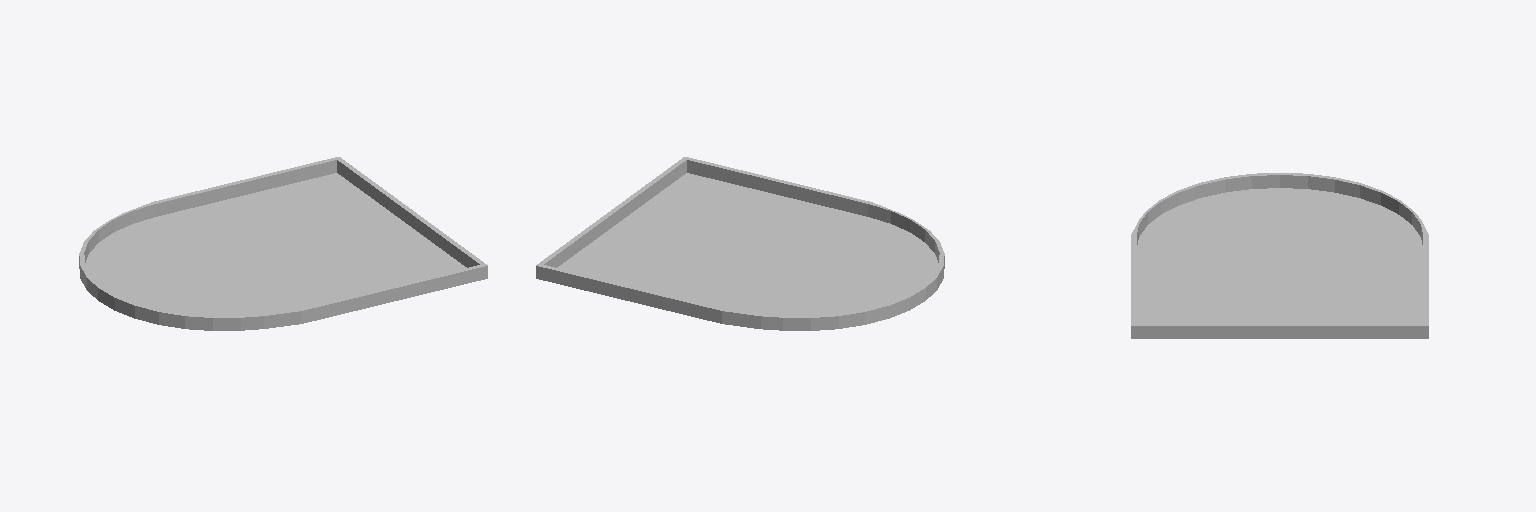
File: HandTable.obj
3 renders of one model, left to right at view 1: azimuth 30°, elevation 25°; view 2: azimuth 150°, elevation 25°; view 3: azimuth 270°, elevation 25°, orthographic.
Parts seen in each view (by area): view 1: Cylinder; view 2: Cylinder; view 3: Cylinder.
Boxes of the visible parts, x1,y1,x2,y2 form: Cylinder: [79, 157, 487, 330]; Cylinder: [536, 157, 944, 330]; Cylinder: [1131, 173, 1428, 338].
Size of the model in its own units: 127 by 5 by 104.